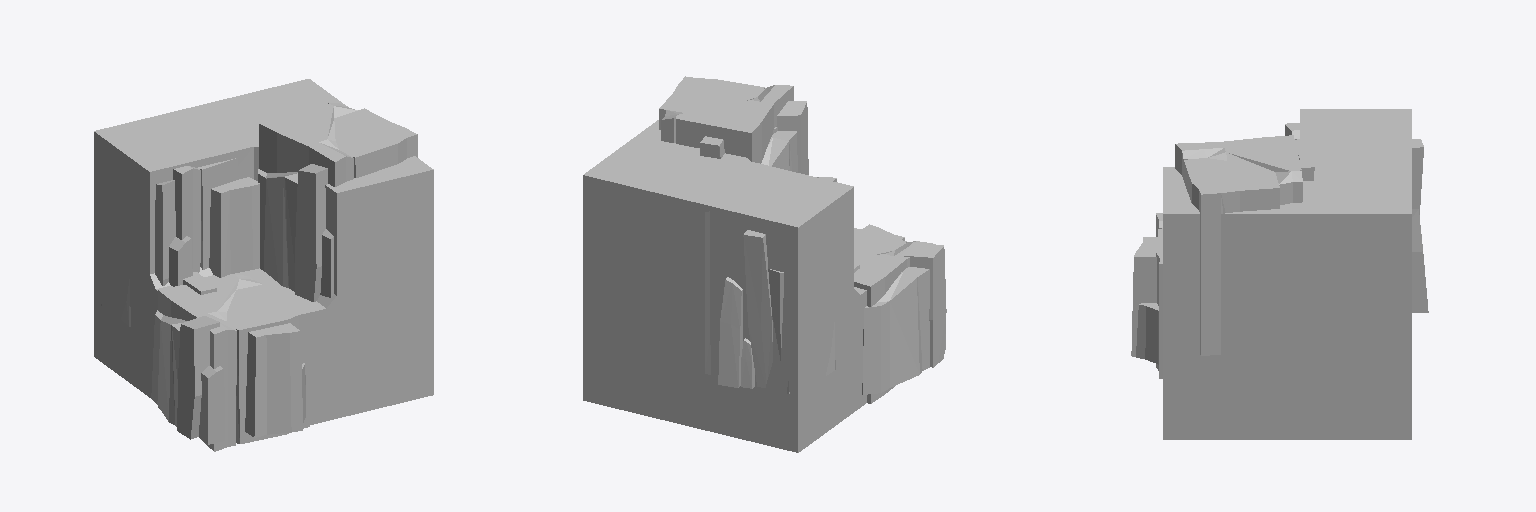
The model's file is cliff_1111_1110.obj.
The picture shows the model from 3 angles: view 1: azimuth 30°, elevation 25°; view 2: azimuth 150°, elevation 25°; view 3: azimuth 270°, elevation 25°; orthographic projection.
Parts seen in each view (by area): view 1: tile_1111_1110; view 2: tile_1111_1110; view 3: tile_1111_1110.
Boxes of the visible parts, box(x1,y1,x2,y2) form: tile_1111_1110: box(94, 79, 433, 451); tile_1111_1110: box(583, 76, 946, 452); tile_1111_1110: box(1131, 109, 1428, 439).
Size of the model in its own units: 2.27 by 2.22 by 2.39.